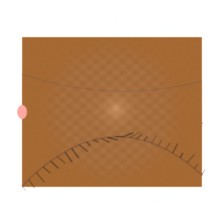corneal_ulcer: (69, 84, 134, 136)
